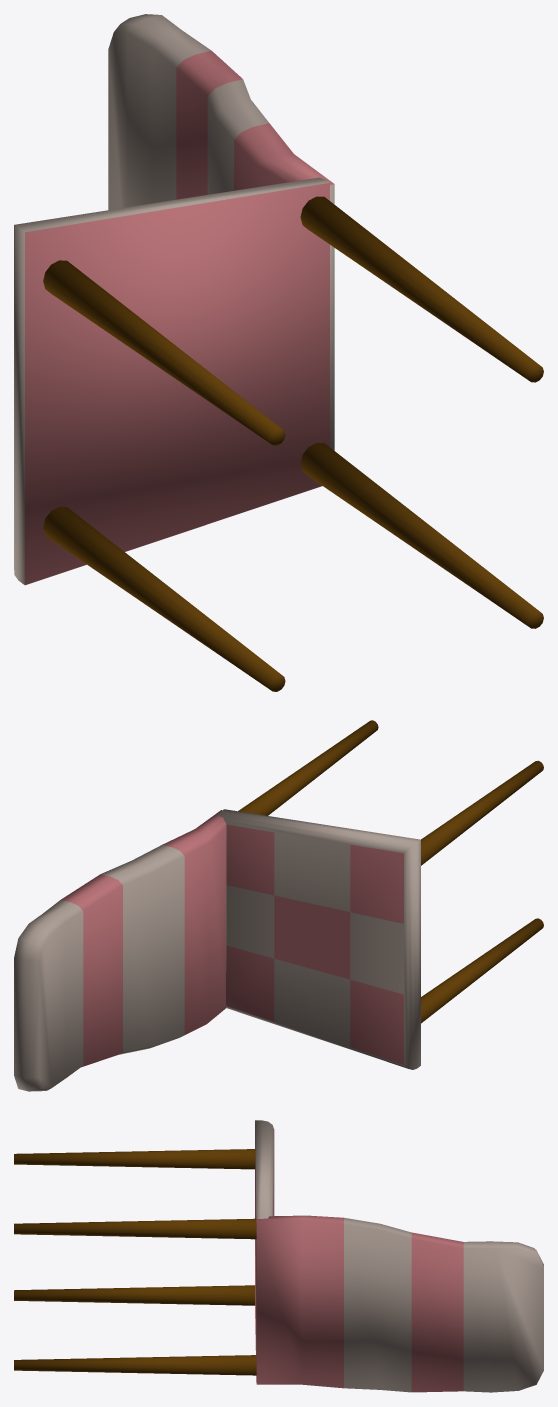
File: chair.fbx
The picture shows the model from 3 angles, top to bottom: view 1: azimuth 30°, elevation 25°; view 2: azimuth 150°, elevation 25°; view 3: azimuth 270°, elevation 25°; orthographic projection. The views are drawn at different scales.
Visible parts, largest first — view 1: chair; view 2: chair; view 3: chair.
Boxes of the visible parts, left/top/right/bottom form: chair: left=14, top=14, right=543, bottom=691; chair: left=14, top=720, right=543, bottom=1091; chair: left=14, top=1120, right=543, bottom=1392.
Bounding box in the file's own units: 15.36 × 33.85 × 13.77.
